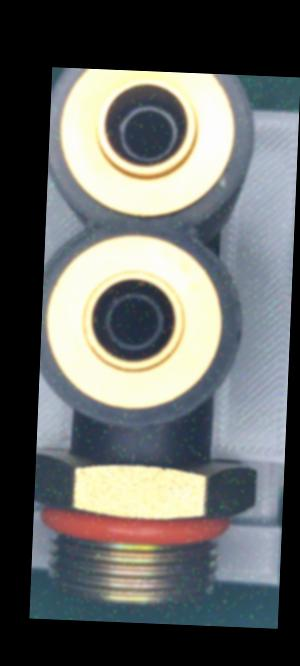joint line: (132, 425, 141, 445)
white mark: (123, 449, 142, 465)
